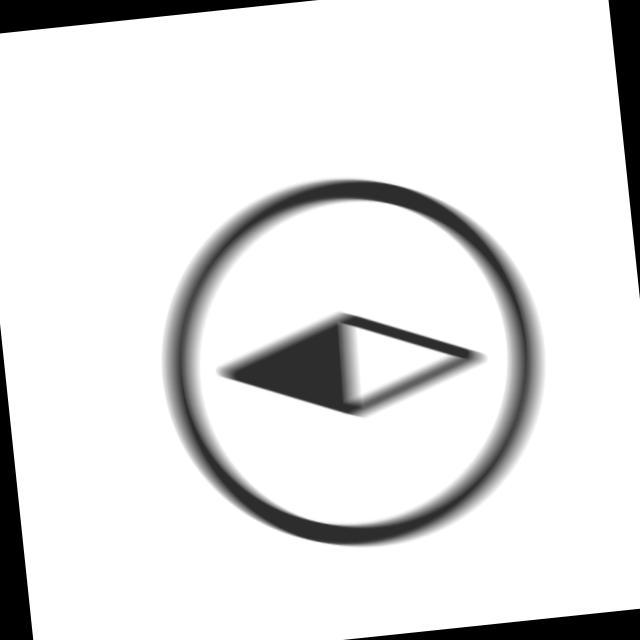compass: (137, 150, 569, 571)
